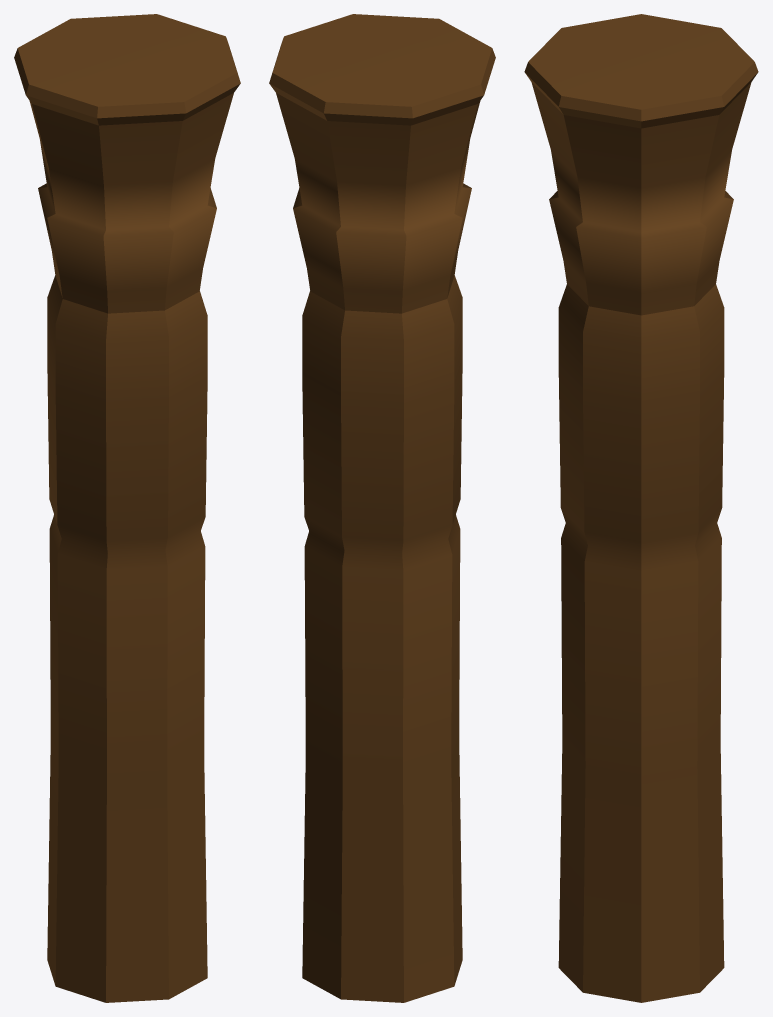
The model's file is Pillar 1.FBX.
The picture shows the model from 3 angles, left to right: view 1: azimuth 30°, elevation 25°; view 2: azimuth 150°, elevation 25°; view 3: azimuth 270°, elevation 25°; orthographic projection.
Visible parts, largest first — view 1: Cylinder007; view 2: Cylinder007; view 3: Cylinder007.
Boxes of the visible parts, bbox=[...] form: Cylinder007: bbox=[14, 14, 240, 1002]; Cylinder007: bbox=[269, 14, 495, 1002]; Cylinder007: bbox=[524, 14, 758, 1002].
Size of the model in its own units: 532 by 532 by 2283.
